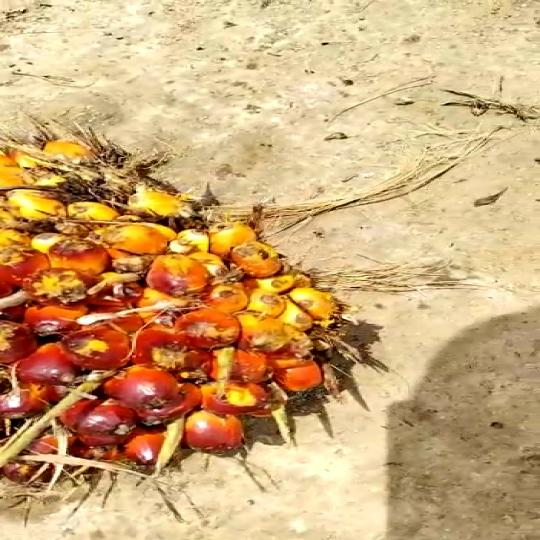masak: (0, 107, 369, 523)
